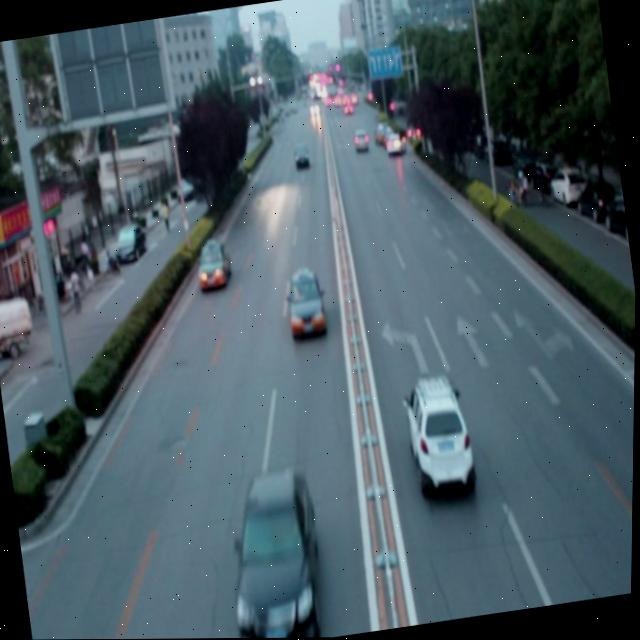car: (217, 457, 336, 639), (397, 365, 481, 499), (281, 265, 331, 340), (192, 237, 235, 295)
